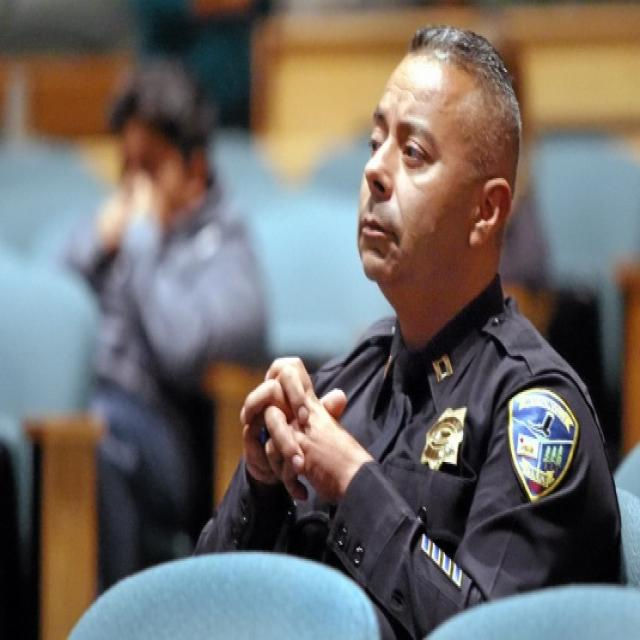police: (219, 0, 623, 640)
